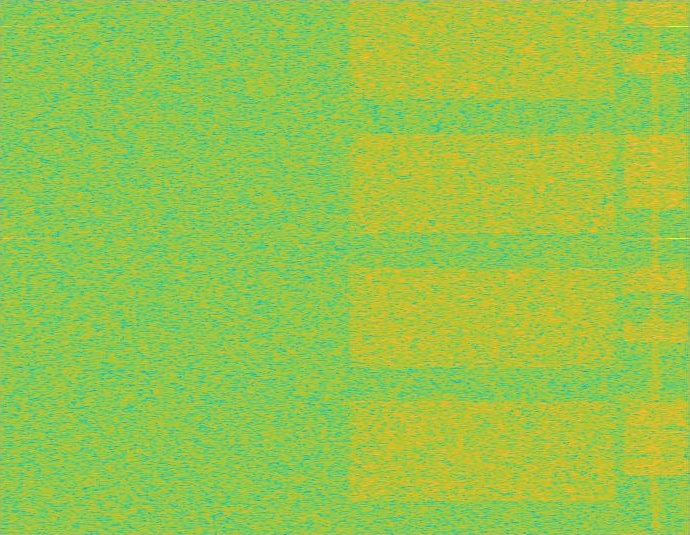5G: (345, 0, 621, 534)
DSSS: (651, 0, 660, 534)
LTE: (621, 0, 689, 534)
Radar: (671, 0, 685, 534)
